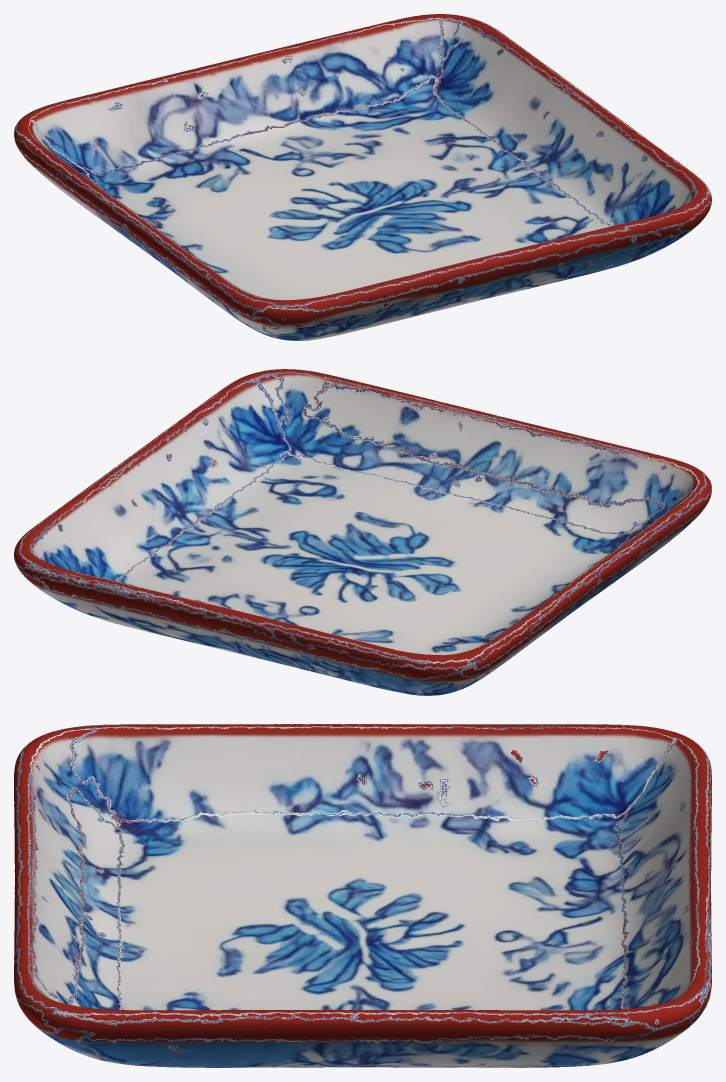
3 renders of one model, top to bottom at view 1: azimuth 30°, elevation 25°; view 2: azimuth 150°, elevation 25°; view 3: azimuth 270°, elevation 25°, orthographic. The views are drawn at different scales.
Bounding box in the file's own units: 1.52 × 0.2224 × 1.52.
1 material, 1 textured.
